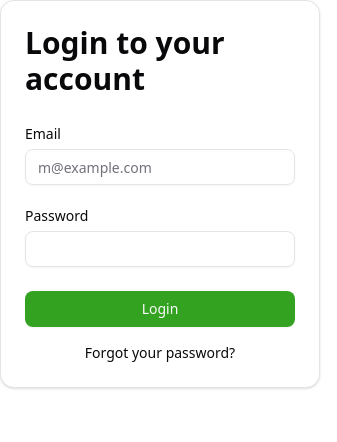
Test case: LoginCard › shows error message on failed login
In the field labelled "Email": coordinates (160, 167) [25,149,295,185], type "test@example.com"
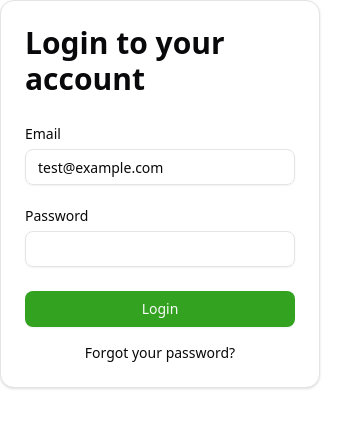
In the password field labelled "Password": coordinates (160, 249) [25,231,295,267], type "wrongpass"
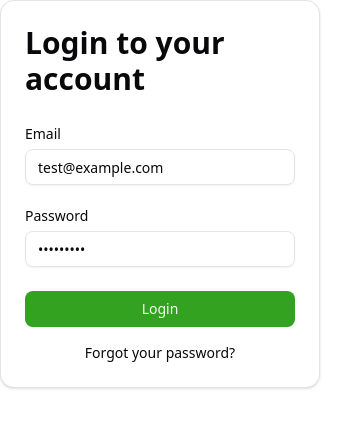
Click the button "Login": coordinates (160, 309) [25,291,295,327]
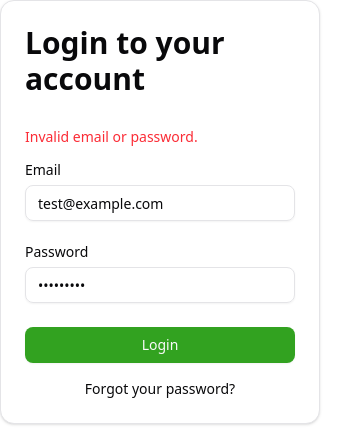
Result: the text "Invalid email or password." is shown at [25,127,198,146]
